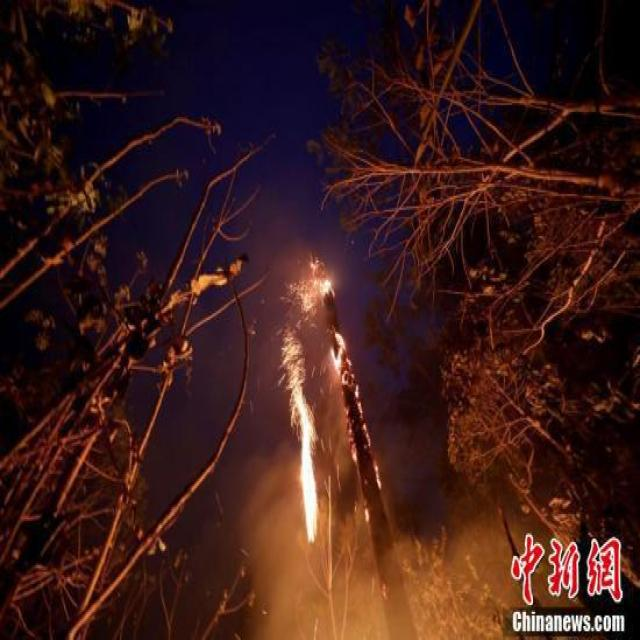fire: (275, 263, 386, 537)
